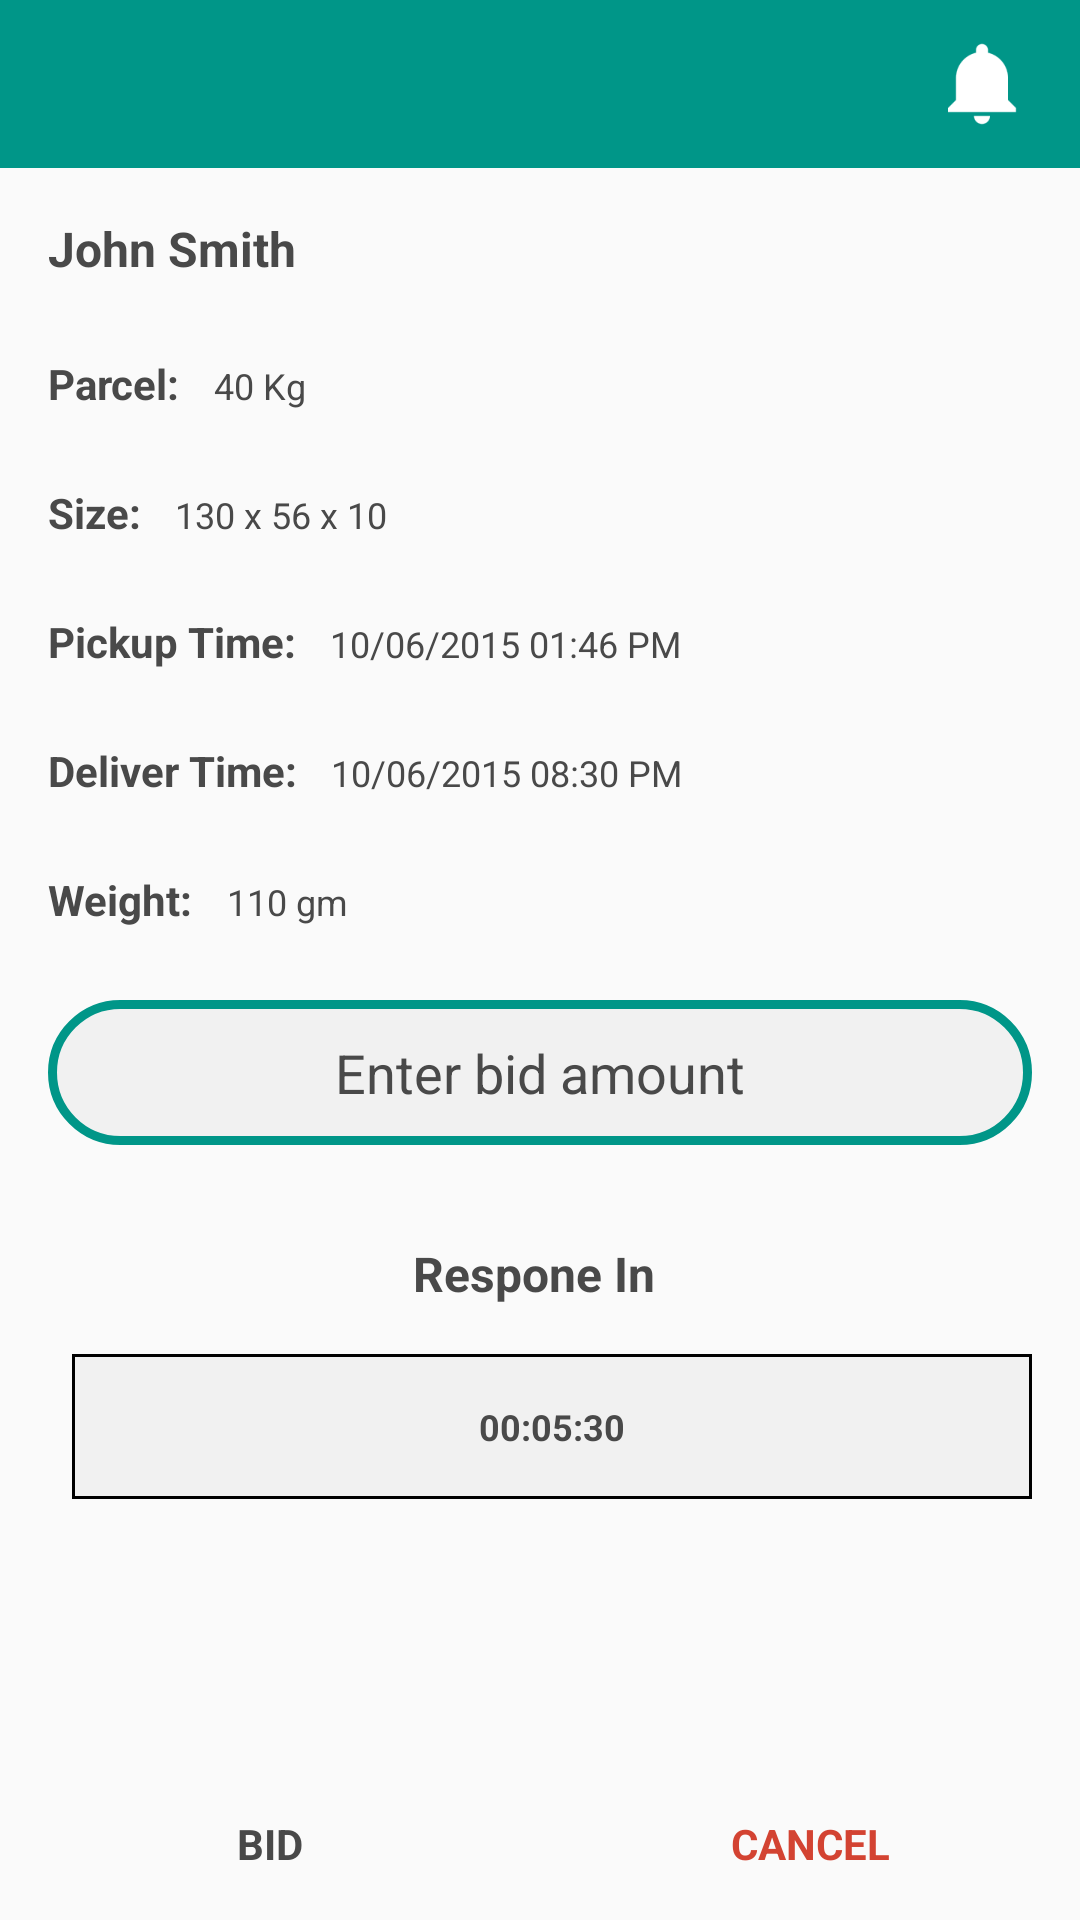

Where to tap for icons on this 1080×1920 app screen, as (x,y):
notifications: (982,84)
